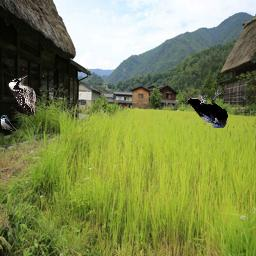Crow: (188, 89, 228, 128)
Swallow: (0, 115, 17, 131)
Woodpecker: (7, 75, 36, 115)
